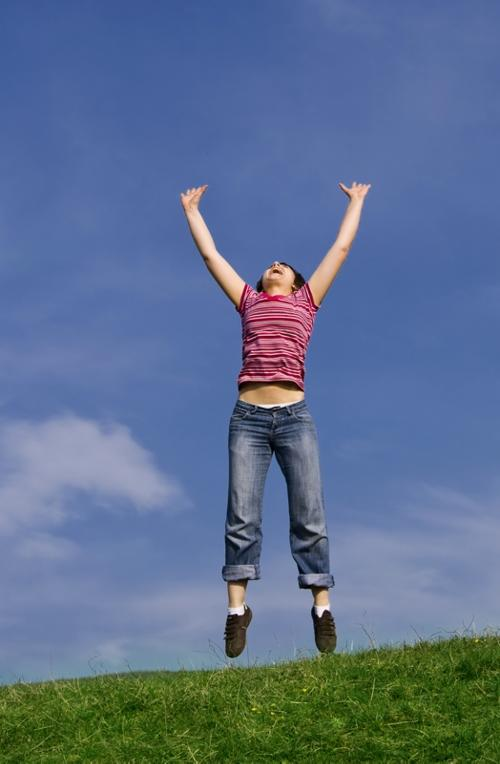person: (182, 176, 371, 654)
